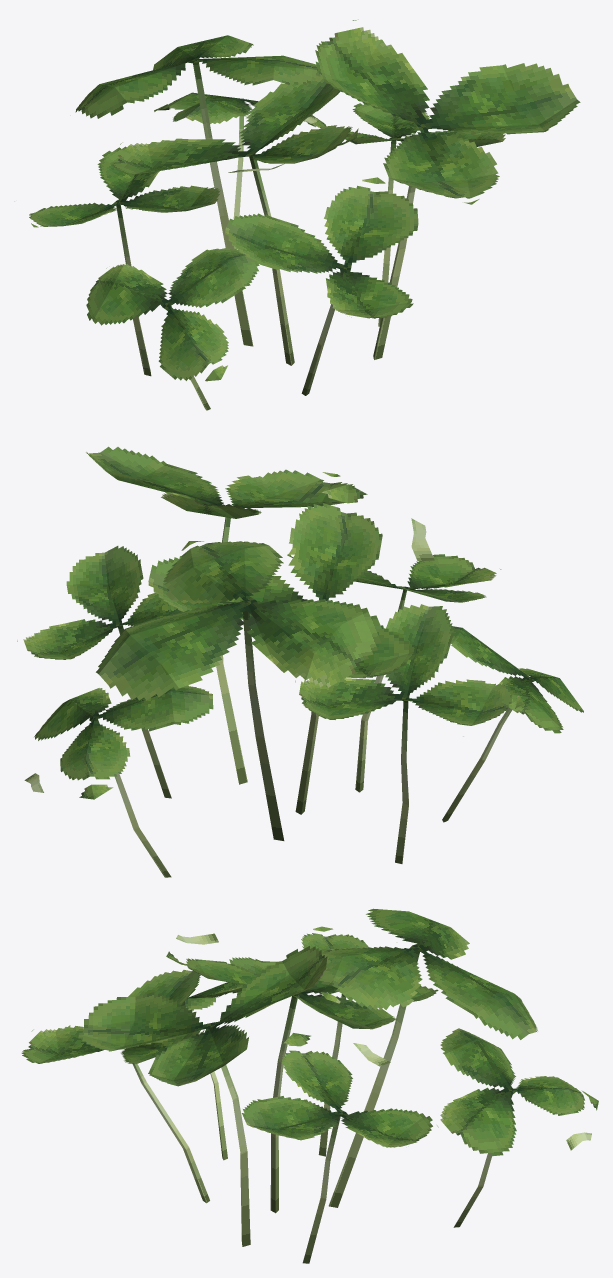
File: Clover.obj
The picture shows the model from 3 angles, top to bottom: view 1: azimuth 30°, elevation 25°; view 2: azimuth 150°, elevation 25°; view 3: azimuth 270°, elevation 25°; orthographic projection. The views are drawn at different scales.
Parts seen in each view (by area): view 1: enemy; view 2: enemy; view 3: enemy.
Part boxes in pixels (<box>): enemy: <box>14,19,580,410</box>; enemy: <box>17,446,583,877</box>; enemy: <box>21,908,598,1263</box>.
Size of the model in its own units: 87.5 by 51.2 by 91.5.
1 material, 1 textured.
